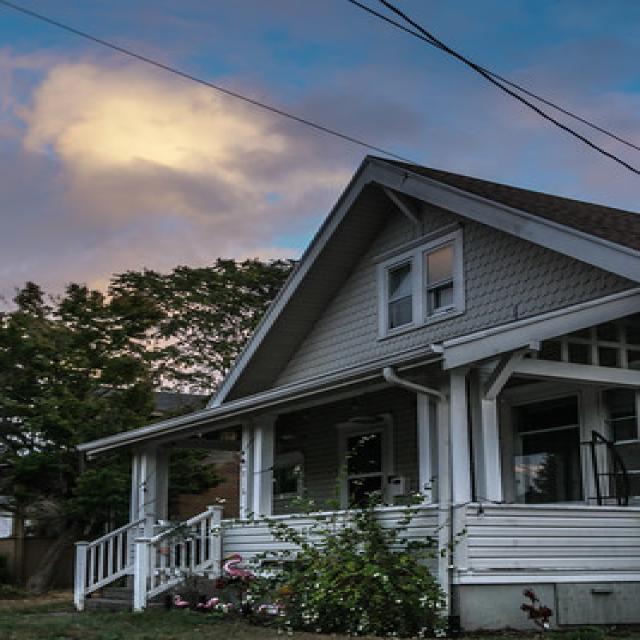building: (64, 151, 640, 626)
